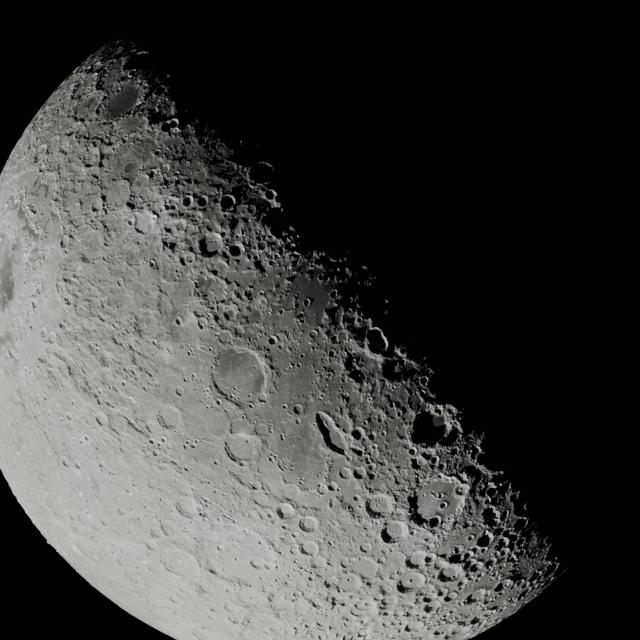crater: (411, 408, 455, 447), (158, 544, 200, 580), (197, 406, 230, 438), (225, 432, 258, 461), (155, 404, 185, 434), (381, 354, 411, 383), (80, 91, 106, 118), (108, 410, 135, 436), (366, 326, 389, 354), (368, 492, 394, 516), (353, 556, 380, 578), (176, 496, 200, 518), (384, 520, 408, 541), (251, 162, 275, 182), (400, 571, 426, 589), (386, 550, 408, 570), (280, 482, 301, 501), (347, 366, 367, 385), (342, 573, 362, 590), (276, 503, 295, 520), (394, 423, 411, 442), (299, 516, 319, 532), (158, 519, 175, 537), (302, 540, 320, 556), (220, 194, 236, 210), (228, 243, 245, 258), (160, 119, 178, 133), (94, 411, 109, 427), (138, 186, 153, 202), (351, 316, 368, 330), (469, 589, 486, 603), (248, 308, 263, 322), (351, 427, 365, 441), (250, 558, 266, 570), (353, 466, 366, 480), (421, 450, 435, 463), (265, 188, 278, 202), (150, 527, 164, 539), (255, 423, 269, 435), (222, 308, 234, 322), (123, 162, 137, 174), (339, 466, 351, 479), (411, 455, 422, 469), (360, 542, 372, 554), (207, 565, 220, 576), (328, 288, 339, 301), (60, 234, 70, 248), (316, 483, 328, 494), (145, 540, 157, 551), (340, 557, 352, 568), (292, 404, 304, 415), (367, 468, 378, 480), (327, 481, 339, 492), (444, 592, 456, 603), (250, 480, 261, 491), (161, 163, 172, 174), (455, 485, 466, 496), (197, 196, 208, 207), (47, 332, 57, 344), (424, 554, 436, 564), (257, 393, 268, 403), (430, 455, 440, 466), (267, 336, 278, 346), (184, 254, 195, 264), (115, 277, 125, 287), (197, 320, 207, 330), (257, 240, 267, 250), (408, 446, 418, 456), (309, 329, 319, 339), (351, 494, 361, 504), (454, 545, 464, 555), (175, 386, 185, 396), (302, 297, 312, 307), (40, 328, 49, 339), (117, 507, 126, 517), (174, 316, 183, 326), (65, 412, 74, 422), (61, 458, 70, 468), (268, 454, 277, 464), (328, 349, 337, 358), (153, 148, 162, 157), (466, 533, 475, 542), (293, 590, 303, 598), (149, 259, 157, 269), (297, 312, 305, 322), (368, 431, 376, 440), (148, 438, 156, 446), (212, 458, 220, 466), (294, 417, 302, 425), (277, 307, 285, 315), (74, 461, 81, 470), (31, 299, 37, 309), (152, 449, 159, 457), (63, 297, 70, 305), (215, 398, 222, 406), (160, 436, 167, 444), (247, 401, 255, 408), (380, 430, 387, 437), (295, 361, 302, 368), (280, 433, 286, 441), (121, 380, 127, 387), (23, 366, 29, 373), (299, 353, 306, 359)
rock: (461, 464, 482, 484), (482, 504, 502, 524), (476, 531, 493, 548), (380, 526, 396, 544), (512, 516, 527, 530), (350, 445, 365, 459), (397, 581, 412, 594), (449, 552, 465, 564), (486, 486, 498, 500), (463, 593, 476, 605), (428, 516, 441, 528), (424, 602, 436, 614), (469, 616, 481, 626), (493, 582, 504, 592), (125, 200, 136, 210), (100, 193, 107, 203)
